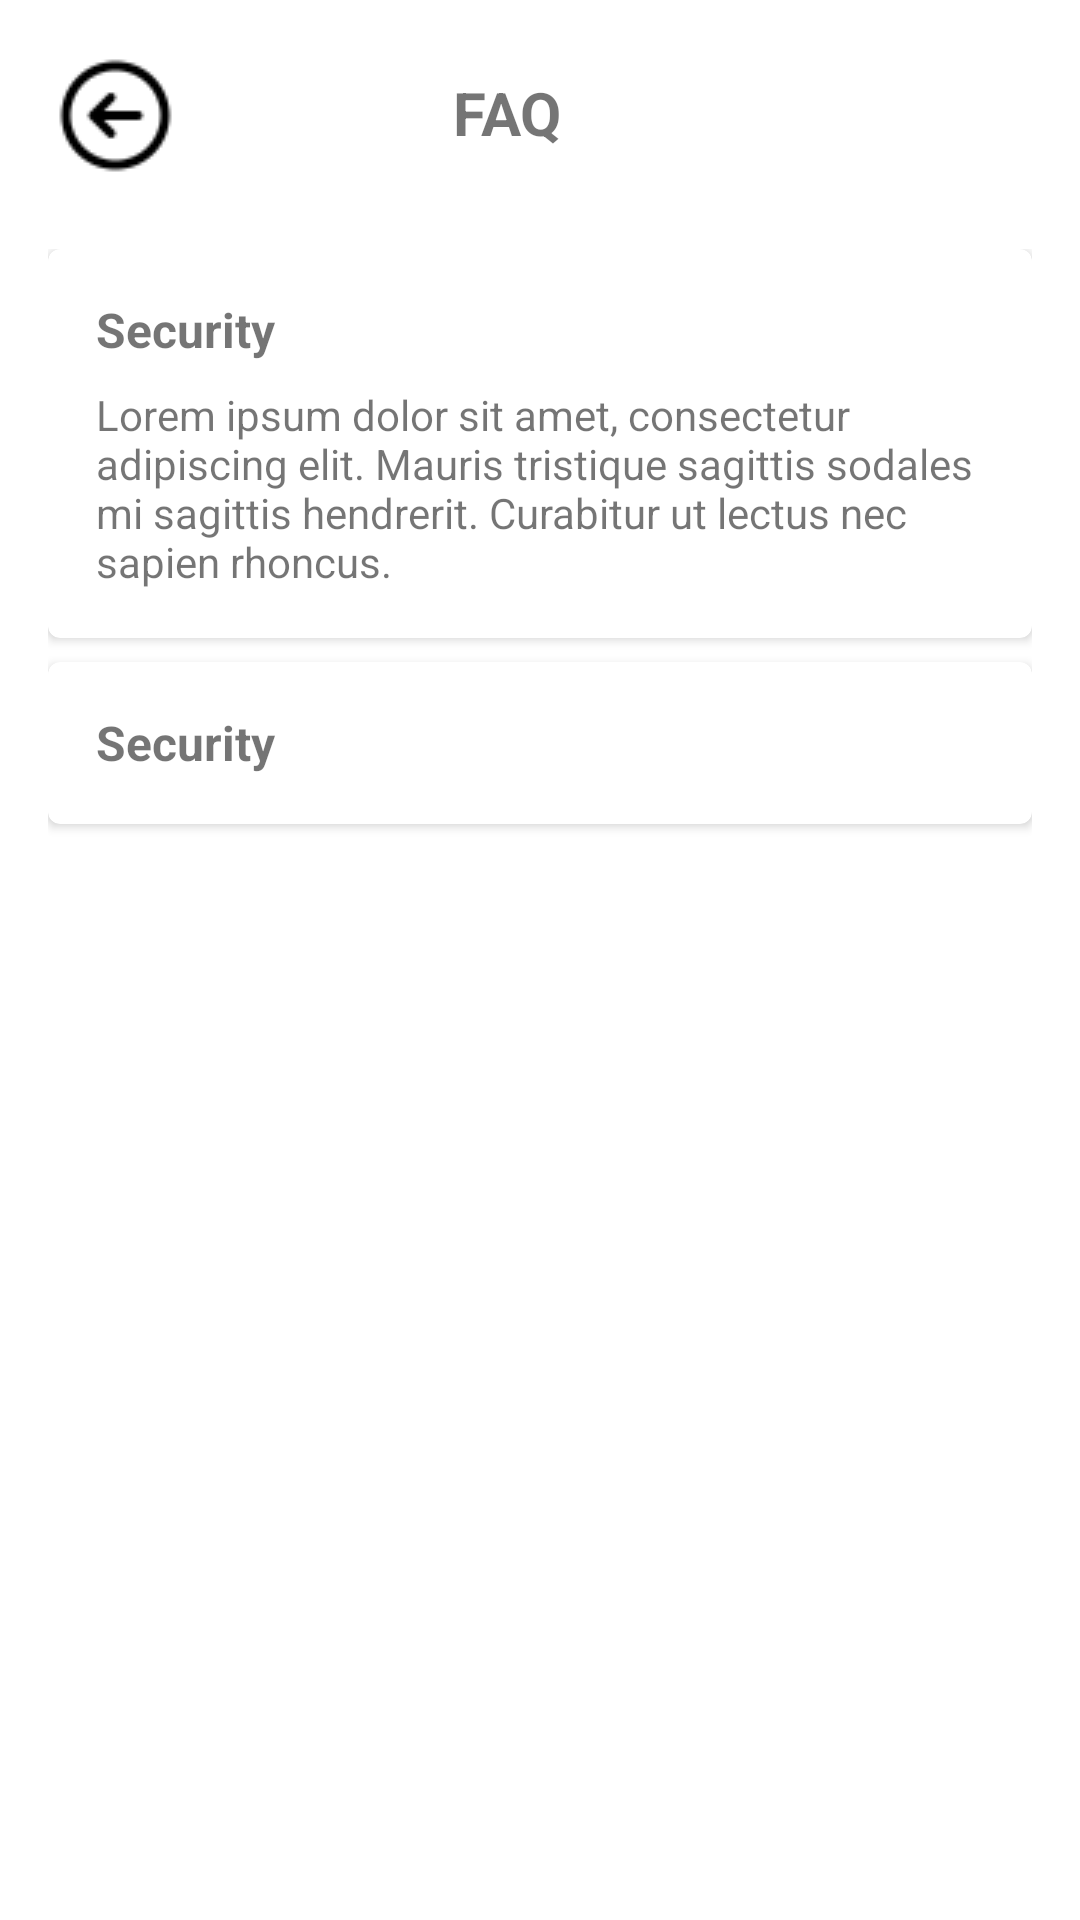

Where icons sit on this 1080px×1920px app screen, as [x1=x1, y1=y1, x2=x2, y2=y2]:
Back: [x1=59, y1=59, x2=172, y2=172]
